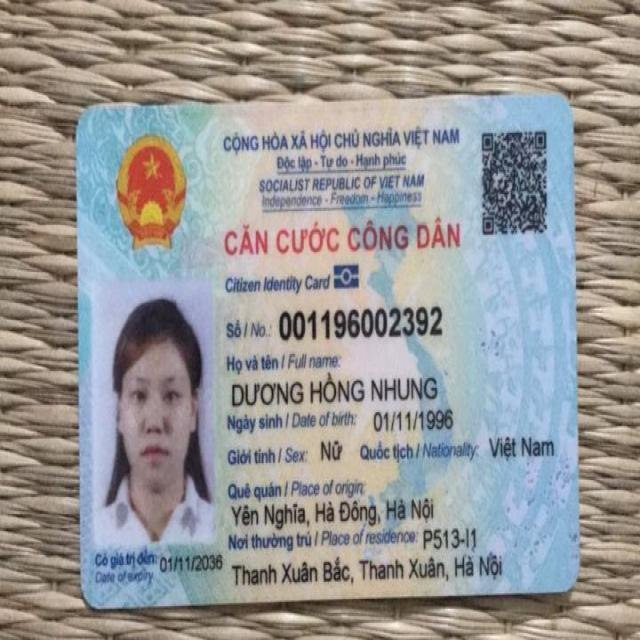bottom_left: (65, 576, 118, 632)
bottom_right: (542, 550, 588, 607)
image_person: (86, 278, 220, 544)
top_left: (59, 91, 116, 146)
top_right: (528, 81, 580, 125)
